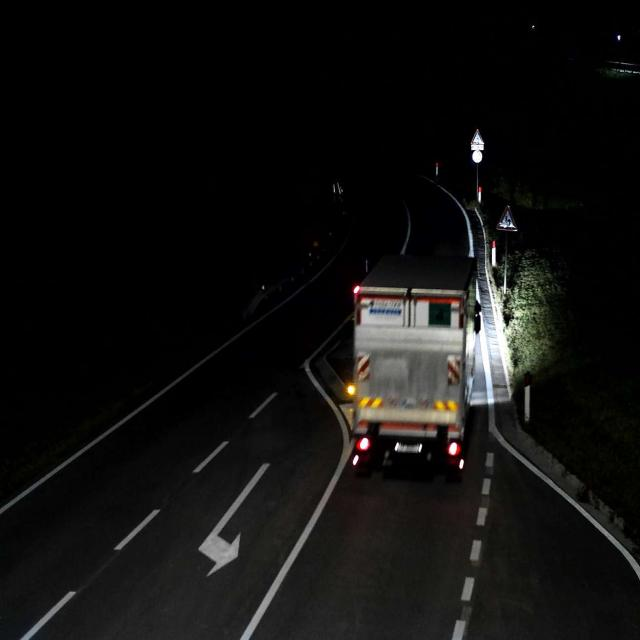truck: (349, 252, 481, 481)
